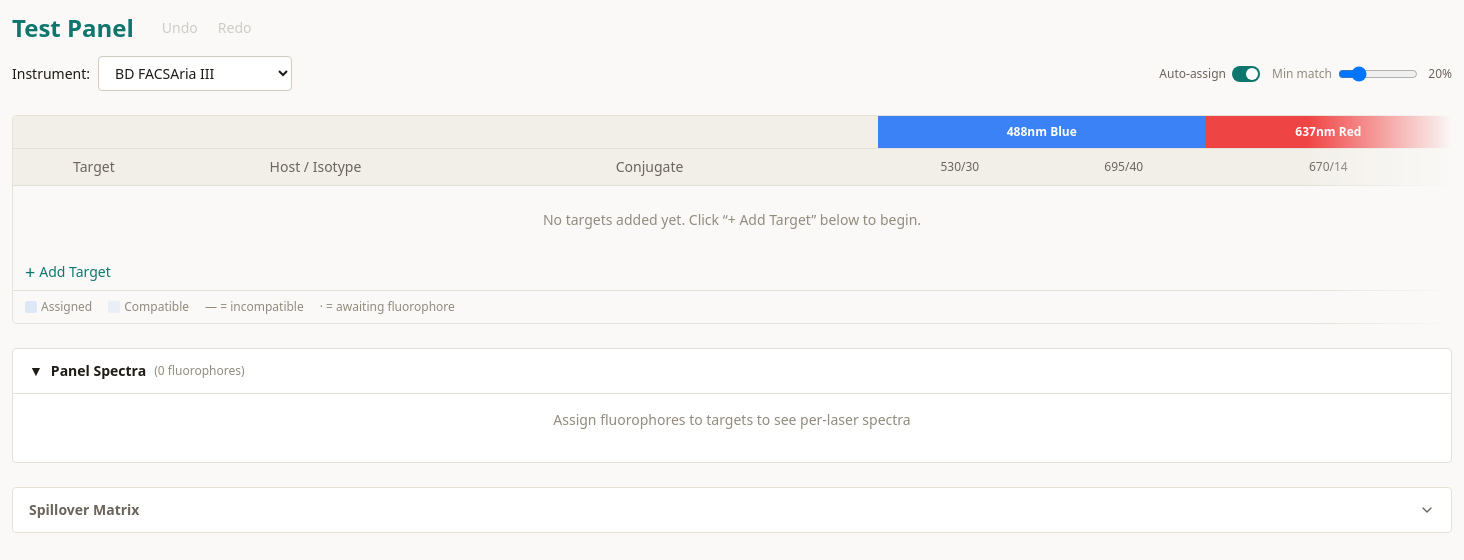
it: PanelDesignerView › panel name › pressing Escape cancels the edit and restores the original name
Click the heading "Test Panel" at (73, 28), box [12,12,134,44]
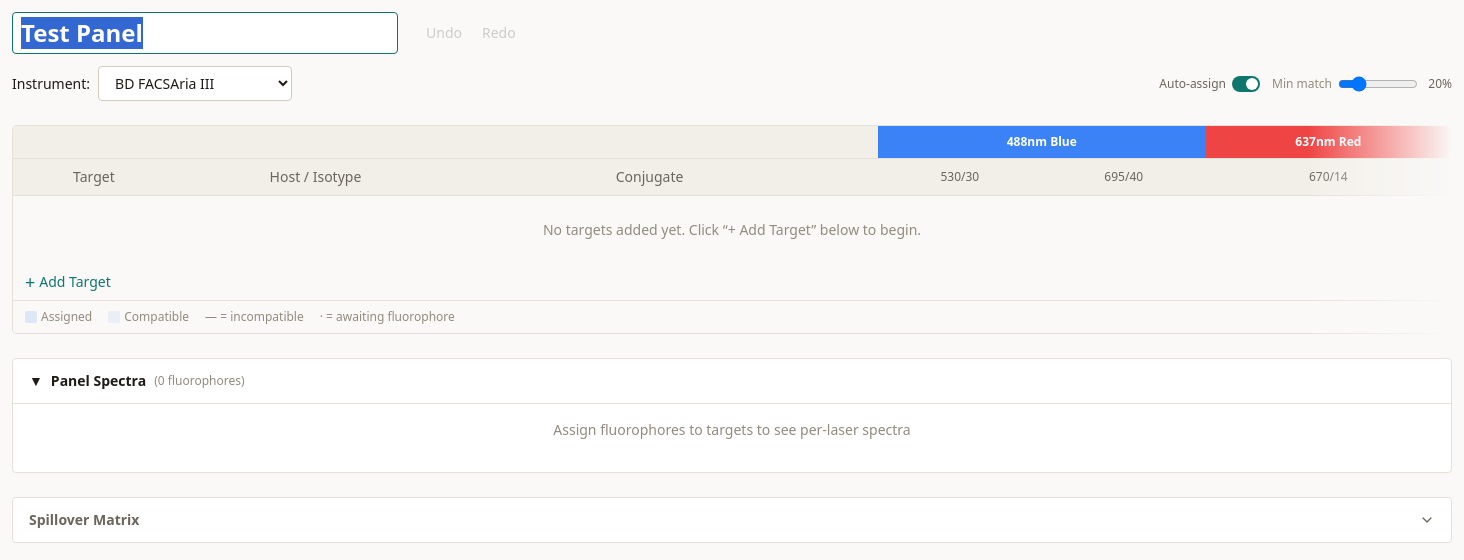
Replace the text in the field with "Changed" at (205, 33), box [12,12,398,54]
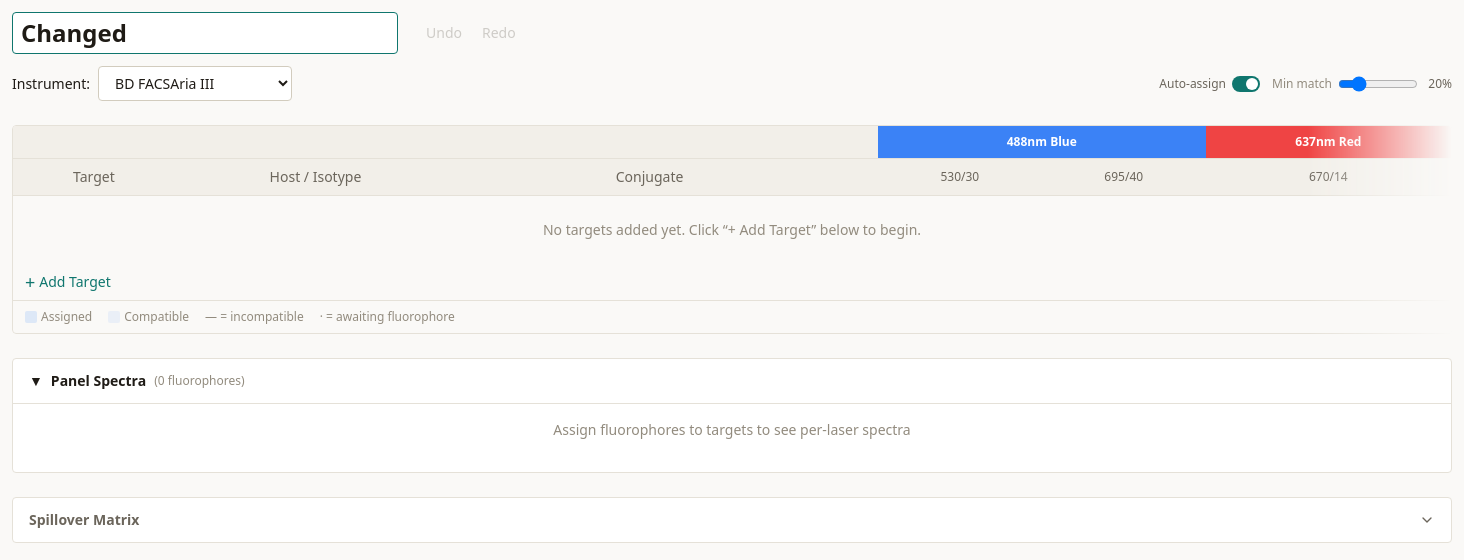
Press Escape in the field, box [12,12,398,54]
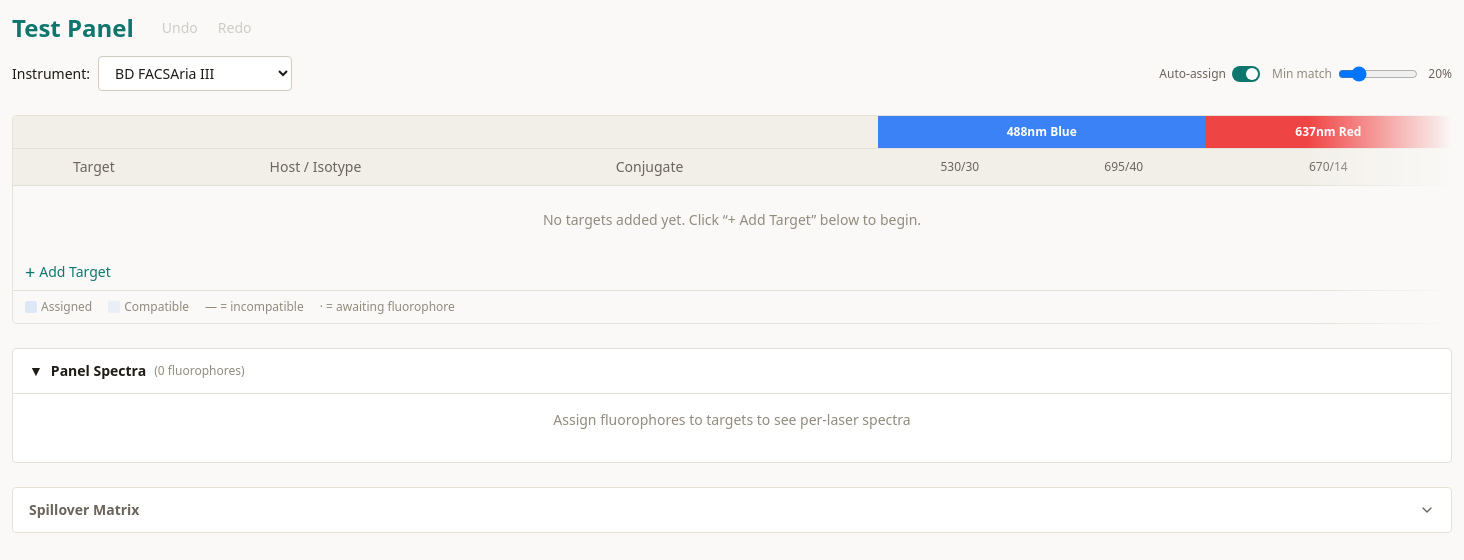
Check: the heading "Test Panel" is shown, box [12,12,134,44]
